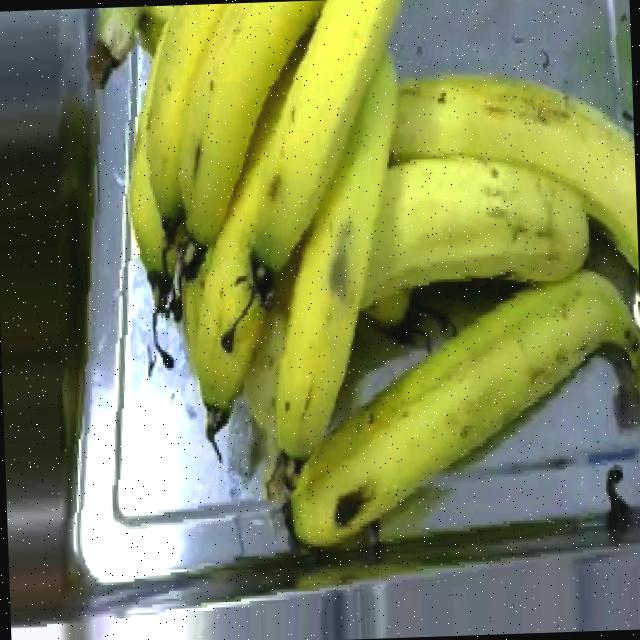banana: (106, 6, 544, 570)
